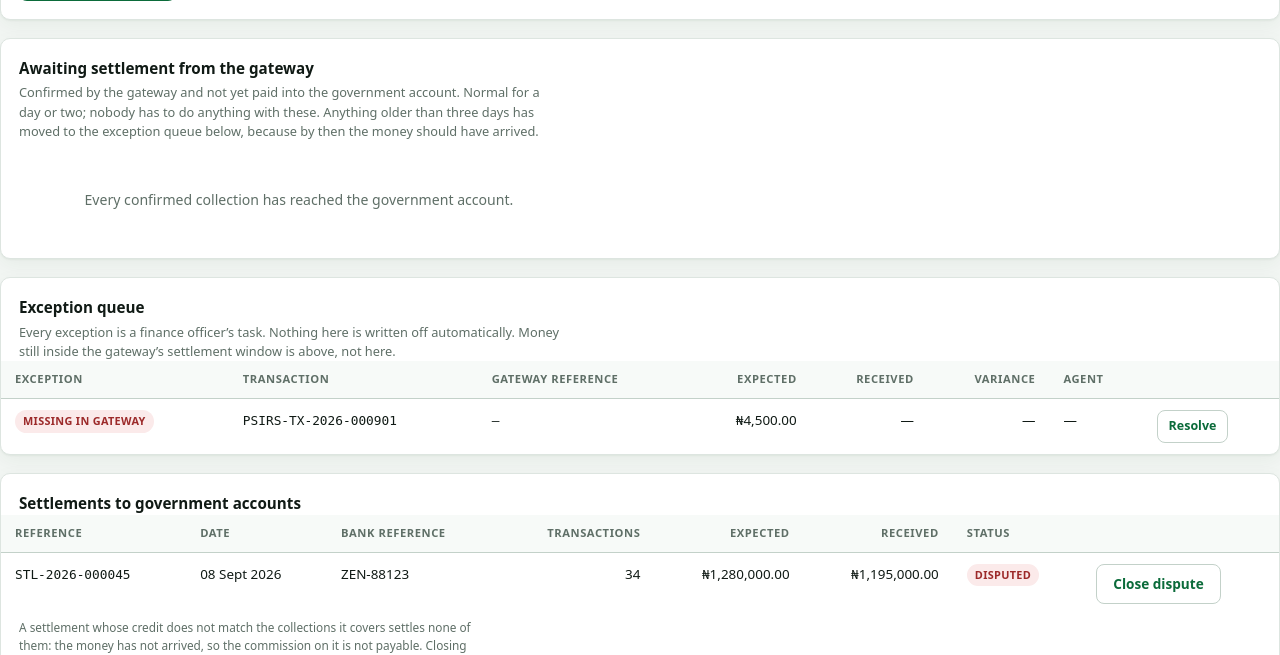
Test: an answer the screen cannot use › says so when the variance note is too short to be a record
The width and height of the screenshot is (1280, 655).
(page scrolled)
Expected: the text "STL-2026-000045" is shown, [15, 567, 131, 582]
Click the button "Close dispute".
click(1158, 584)  # box [1096, 564, 1221, 604]
(page scrolled)
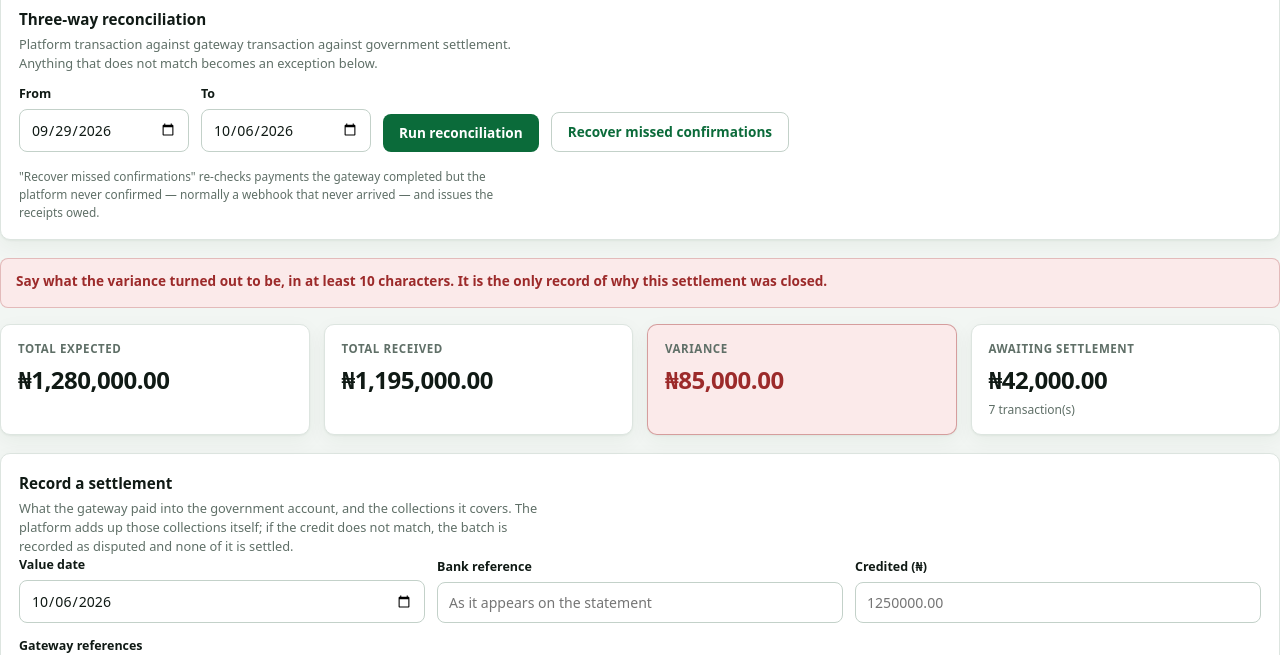
Expected: the text "at least 10 characters" is shown, [16, 271, 827, 290]
